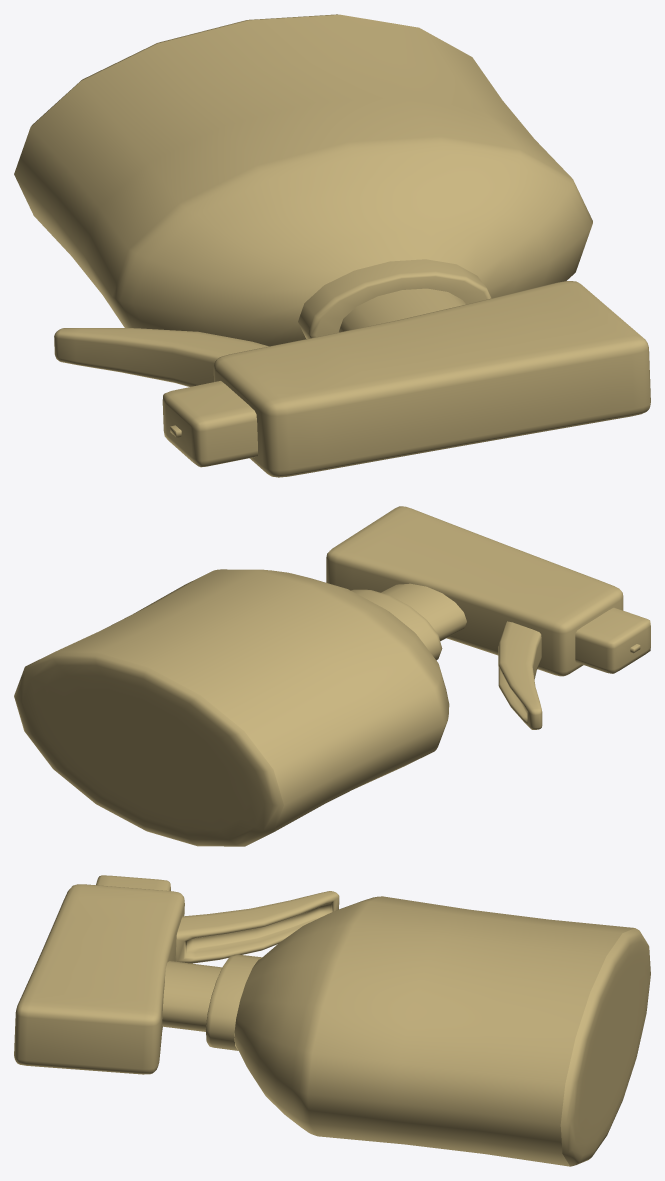
The model's file is SprayBottle-Shadow.fbx.
The picture shows the model from 3 angles, top to bottom: view 1: azimuth 30°, elevation 25°; view 2: azimuth 150°, elevation 25°; view 3: azimuth 270°, elevation 25°; orthographic projection. The views are drawn at different scales.
Parts seen in each view (by area): view 1: SprayBottle-Shadow; view 2: SprayBottle-Shadow; view 3: SprayBottle-Shadow.
Part boxes in pixels (x1,y1,x2,y2): SprayBottle-Shadow: (14,14,650,477); SprayBottle-Shadow: (14,506,650,846); SprayBottle-Shadow: (14,875,650,1166).
Size of the model in its own units: 9.54 by 3.71 by 11.31.
